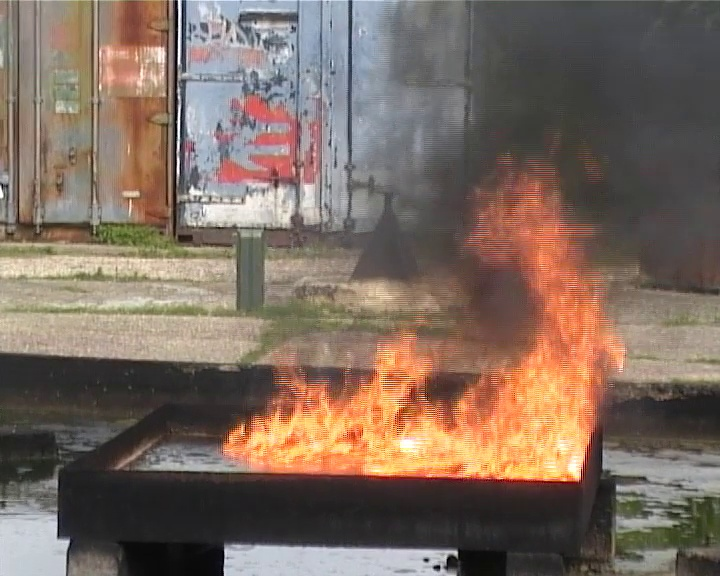fire: (217, 175, 624, 479)
